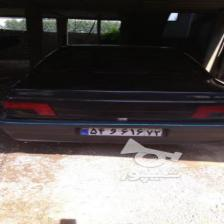plate: (77, 126, 164, 137)
